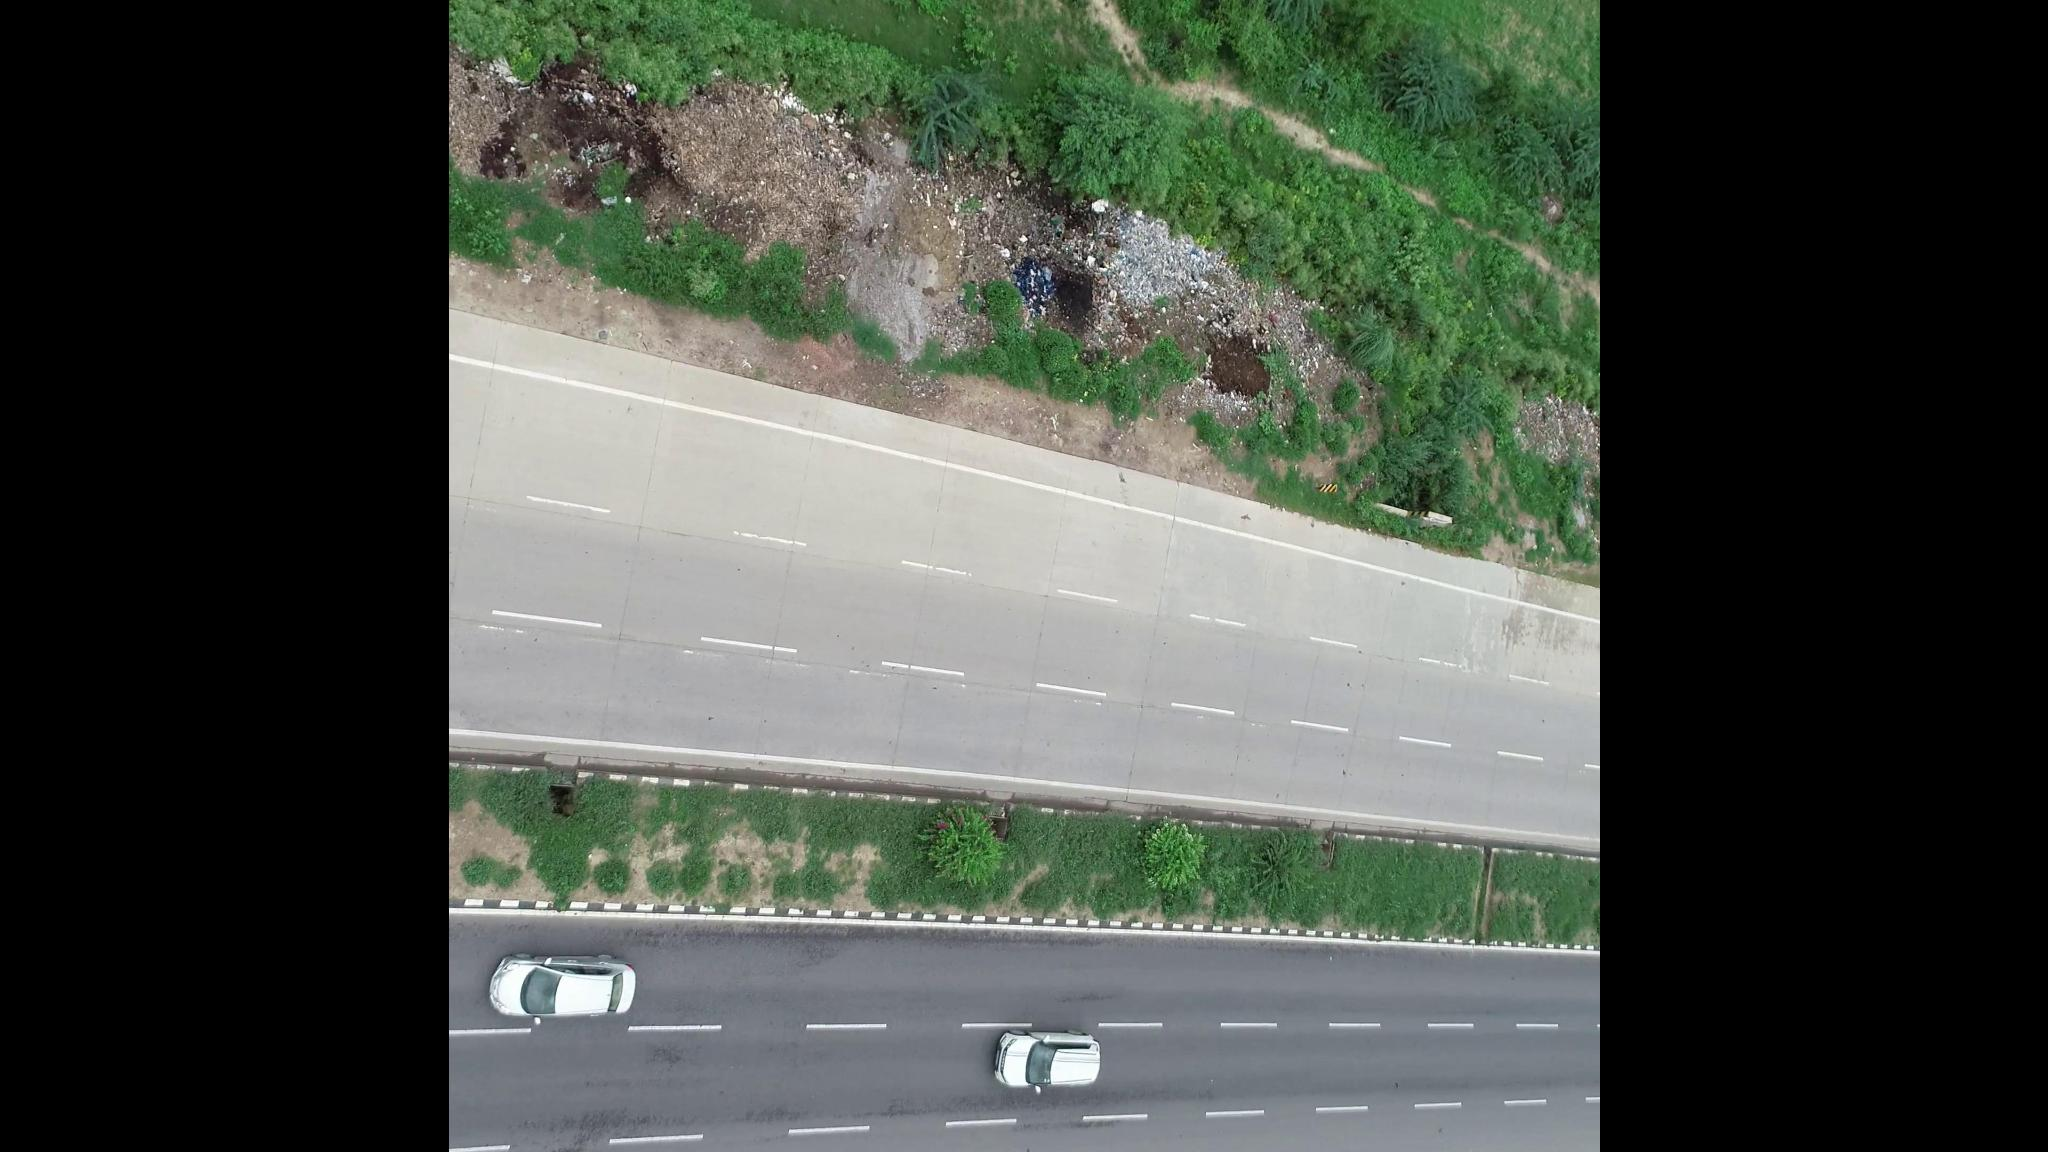Ravelling: (512, 1103, 814, 1152), (871, 1096, 1132, 1139)
Road_side_garbage: (1066, 200, 1279, 426)
